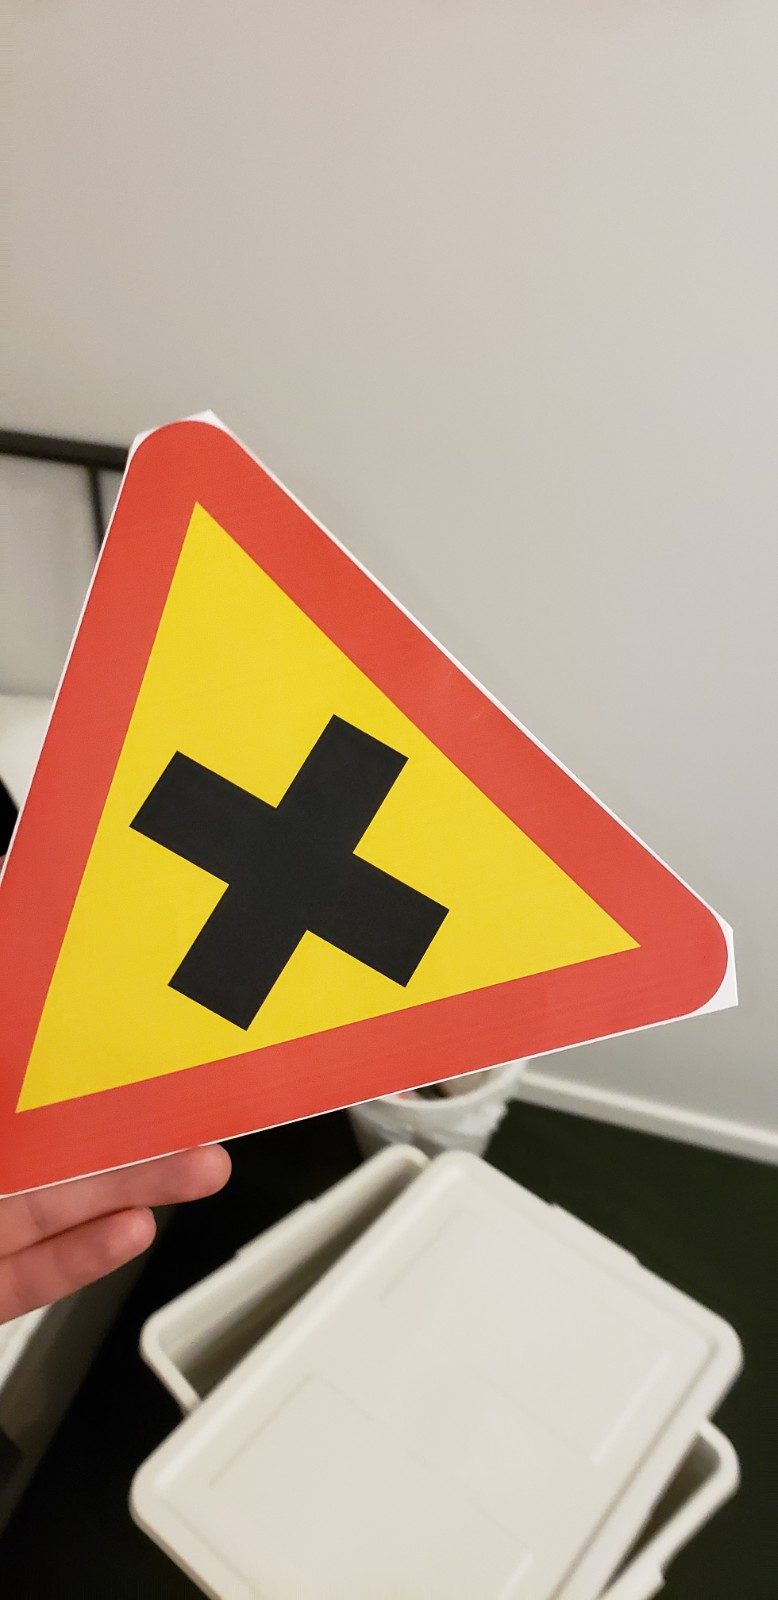junction: (4, 401, 758, 1211)
